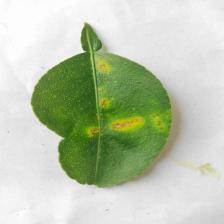canker: (71, 50, 175, 151)
